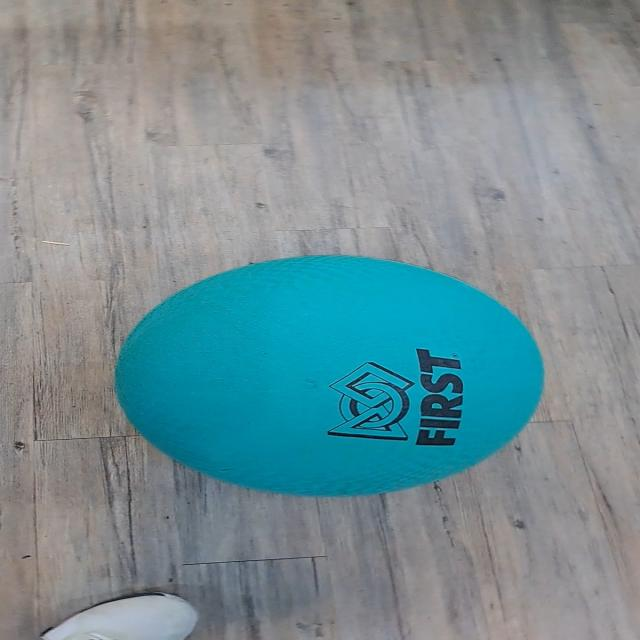ALGAE: (112, 253, 547, 497)
